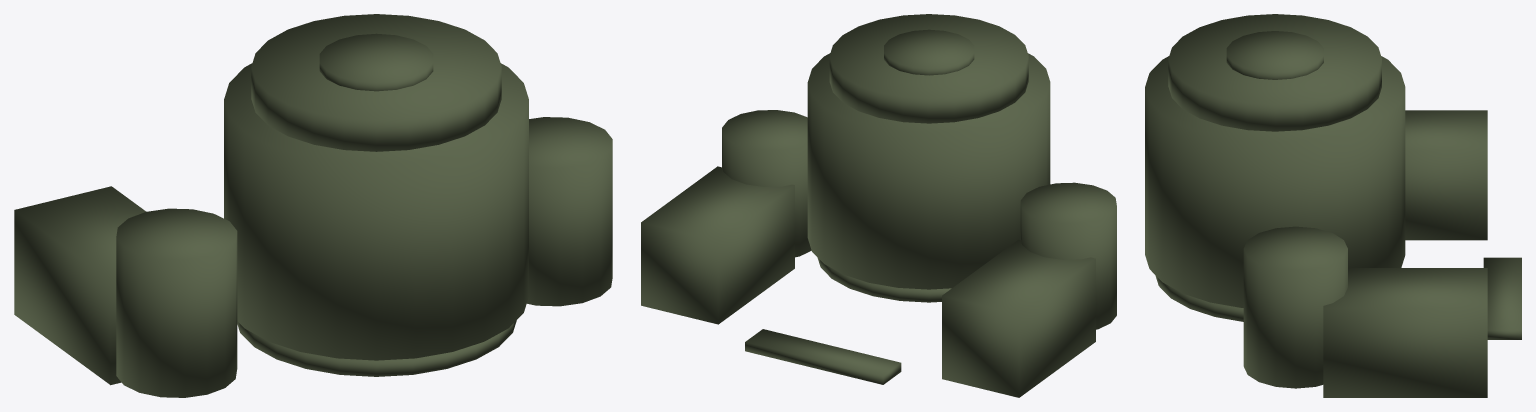
Rendered from harvester_ore_tank.obj.
3 views of the same model, side by side, from view 1: azimuth 30°, elevation 25°; view 2: azimuth 150°, elevation 25°; view 3: azimuth 270°, elevation 25° (orthographic). The views are drawn at different scales.
Visible parts, largest first — view 1: harvester_ore_tank; view 2: harvester_ore_tank; view 3: harvester_ore_tank.
Part boxes in pixels (box(x1,y1,x2,y2)): harvester_ore_tank: box(14, 14, 612, 397); harvester_ore_tank: box(641, 14, 1116, 397); harvester_ore_tank: box(1145, 14, 1521, 397).
Size of the model in its own units: 3.46 by 2.03 by 2.75.
